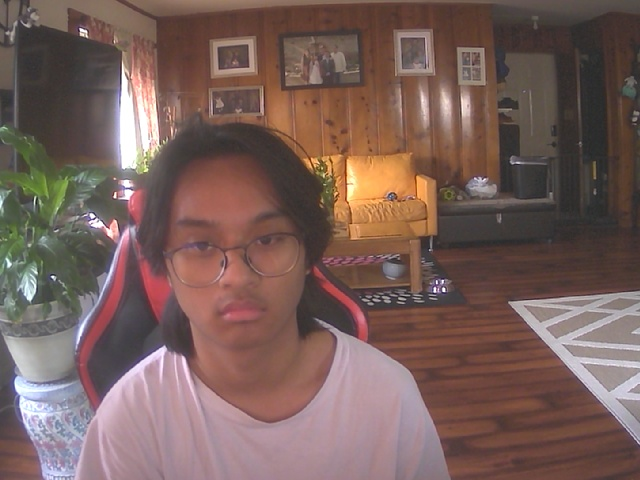neutral: (161, 145, 316, 352)
